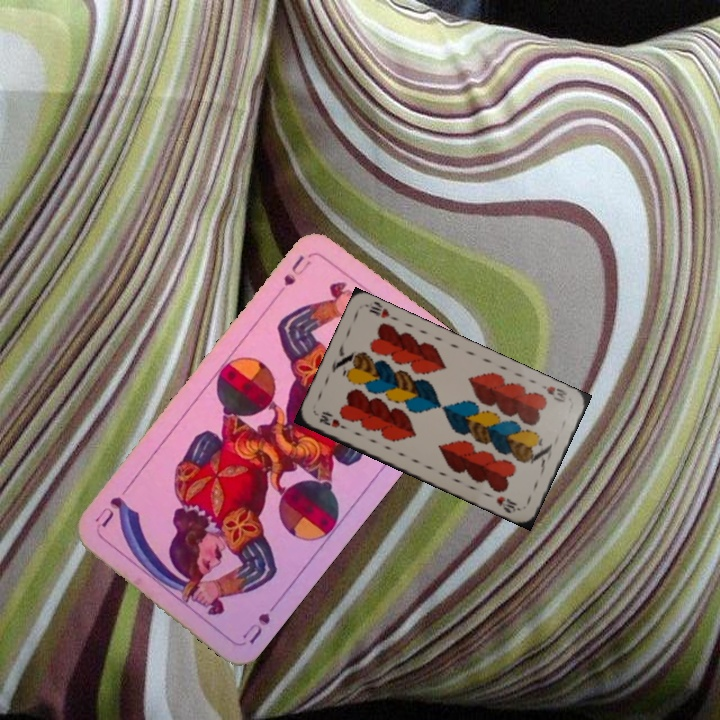H10: (537, 381, 570, 405), (315, 409, 349, 432)
SU: (238, 595, 283, 647), (272, 250, 314, 300)
